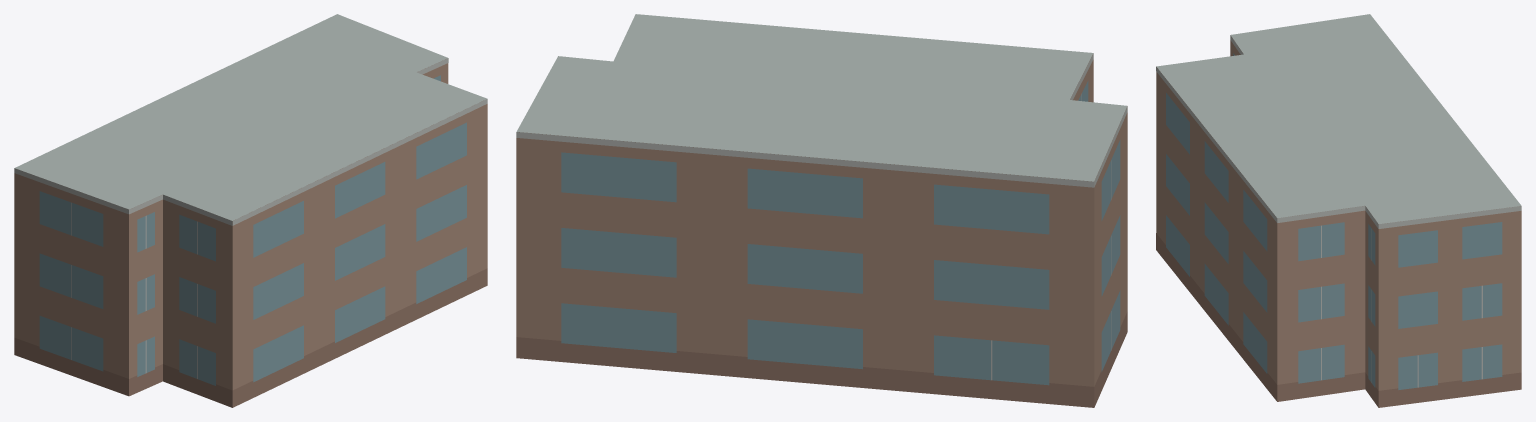
Rendered from survey-upis-32922074.glb.
3 views of the same model, side by side, from view 1: azimuth 30°, elevation 25°; view 2: azimuth 150°, elevation 25°; view 3: azimuth 270°, elevation 25° (orthographic). The views are drawn at different scales.
Visible parts, largest first — view 1: survey-upis-32922074.tmp; view 2: survey-upis-32922074.tmp; view 3: survey-upis-32922074.tmp.
Boxes of the visible parts, box(x1,y1,x2,y2) form: survey-upis-32922074.tmp: box(14, 14, 487, 407); survey-upis-32922074.tmp: box(516, 14, 1127, 407); survey-upis-32922074.tmp: box(1156, 14, 1521, 407).
Bounding box in the file's own units: 22.47 × 9.15 × 16.51.
